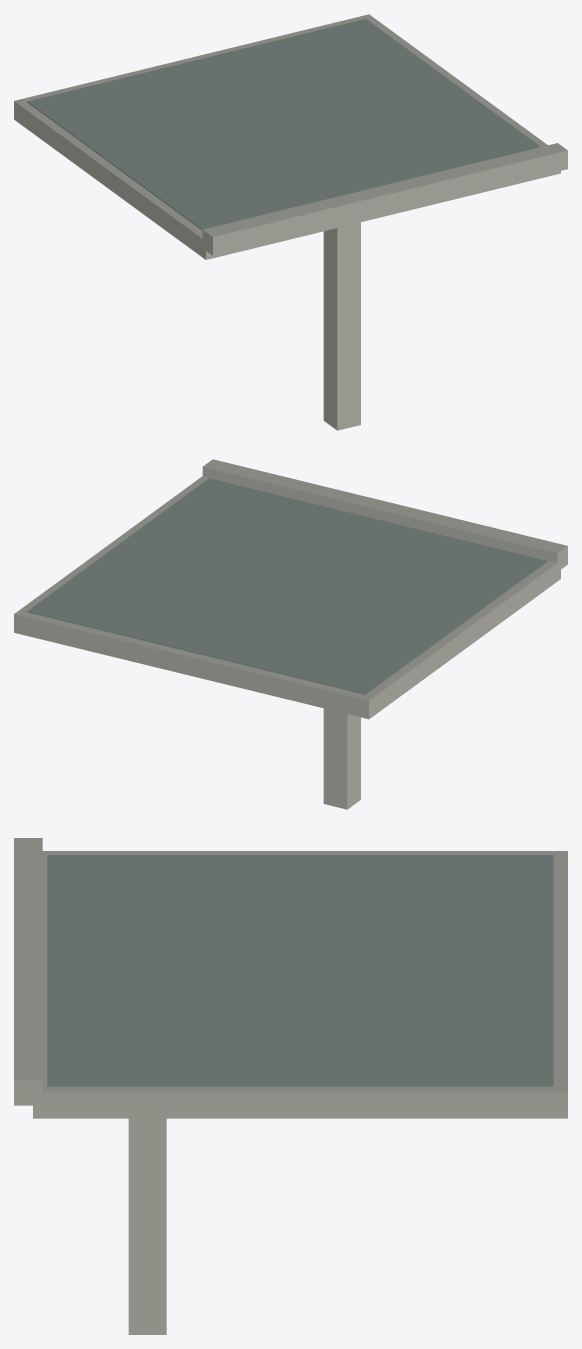
The model's file is SM_KitMarquesina_v5_LOD0.fbx.
3 views of the same model, one above another, from view 1: azimuth 30°, elevation 25°; view 2: azimuth 150°, elevation 25°; view 3: azimuth 270°, elevation 25° (orthographic). The views are drawn at different scales.
Visible parts, largest first — view 1: SM_bloques.kit_marquesina_v5_LOD0; view 2: SM_bloques.kit_marquesina_v5_LOD0; view 3: SM_bloques.kit_marquesina_v5_LOD0.
Boxes of the visible parts, left/top/right/bottom form: SM_bloques.kit_marquesina_v5_LOD0: left=14, top=14, right=567, bottom=430; SM_bloques.kit_marquesina_v5_LOD0: left=14, top=459, right=567, bottom=809; SM_bloques.kit_marquesina_v5_LOD0: left=14, top=838, right=567, bottom=1334.
Bounding box in the file's own units: 5.98 × 4.25 × 5.8.
